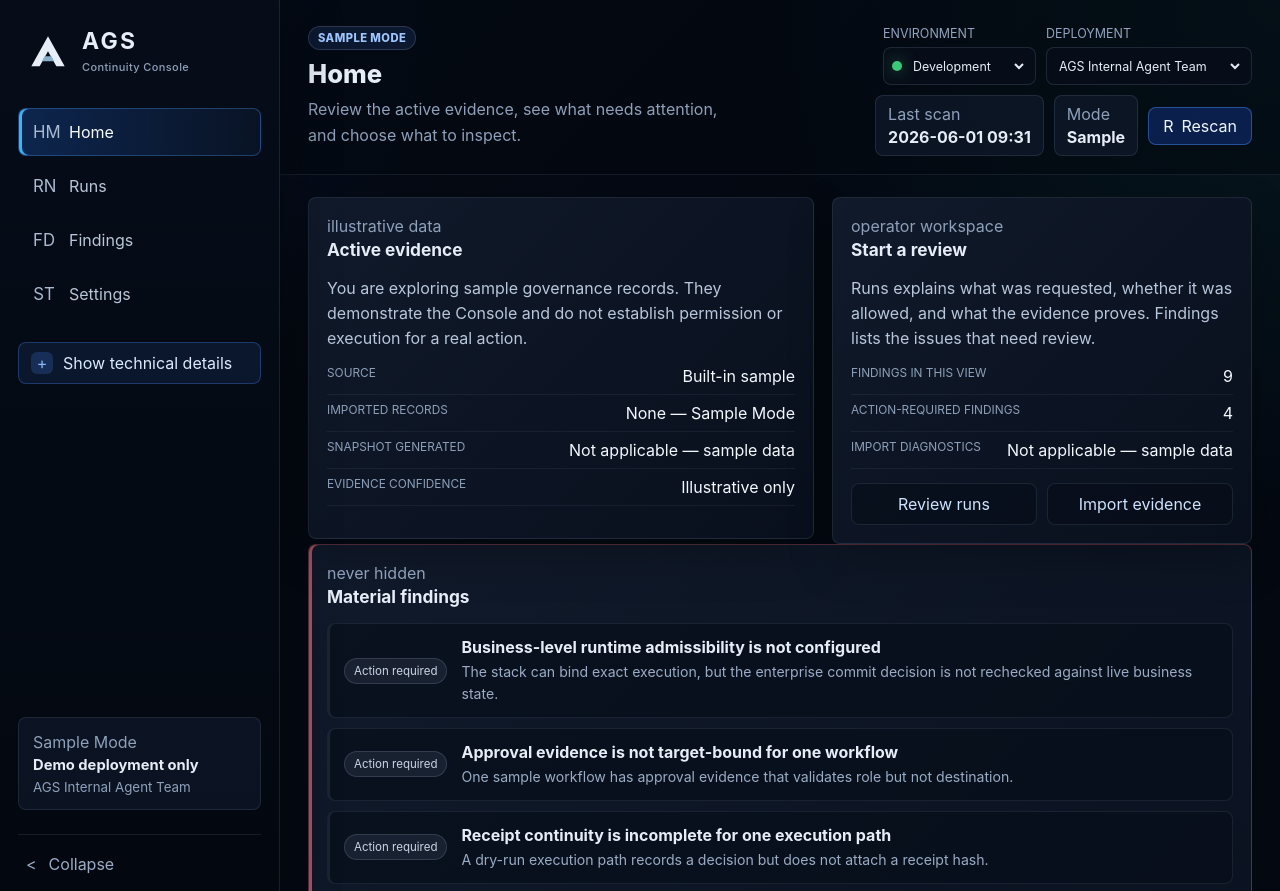
it: import operation ordering › operator order wins when import A completes after B
This screenshot has width=1280, height=891.
Click the button "Settings": [140, 294] box [18,270,261,318]
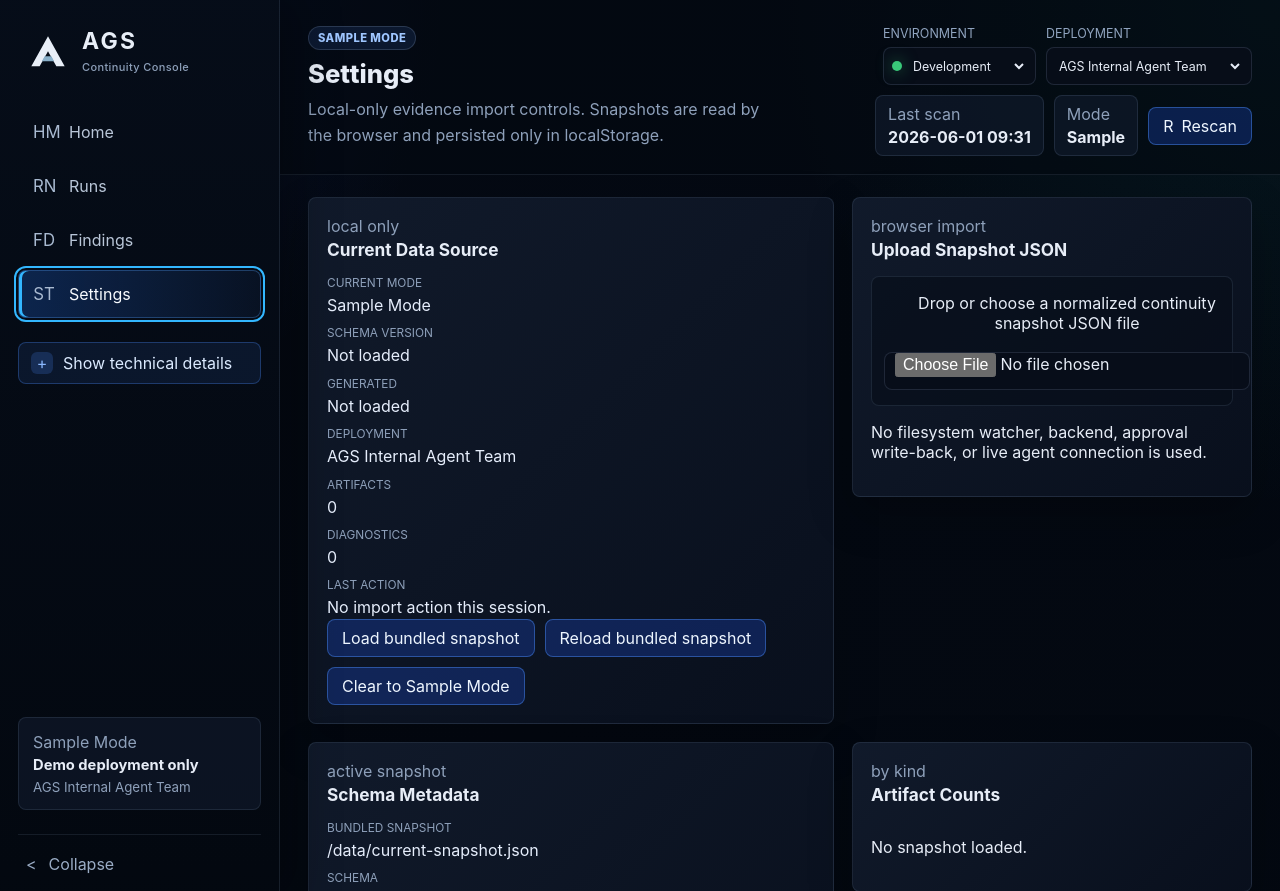
Click the button "Load bundled snapshot": [431, 638] box [327,619,534,657]
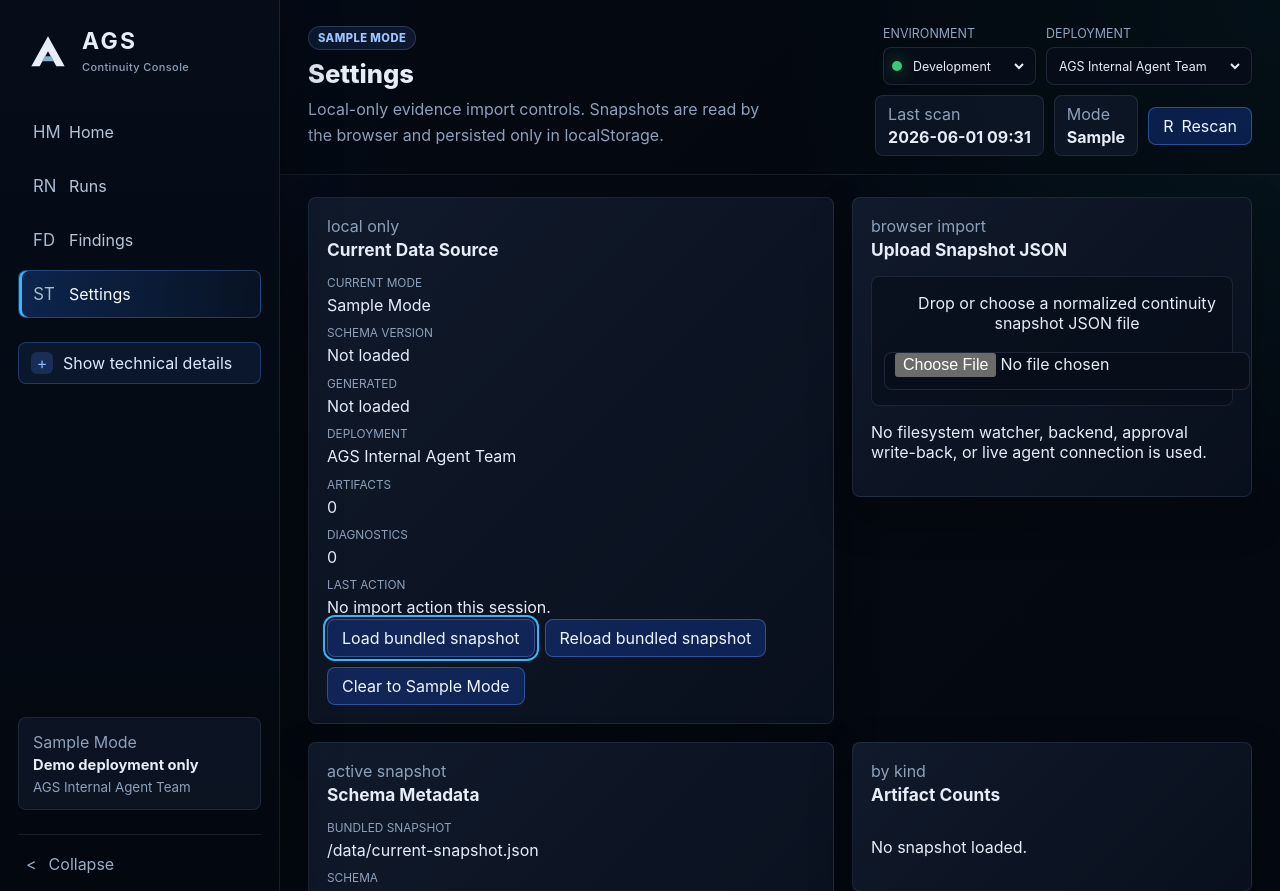
Click the button "Reload bundled snapshot": [655, 638] box [544,619,766,657]
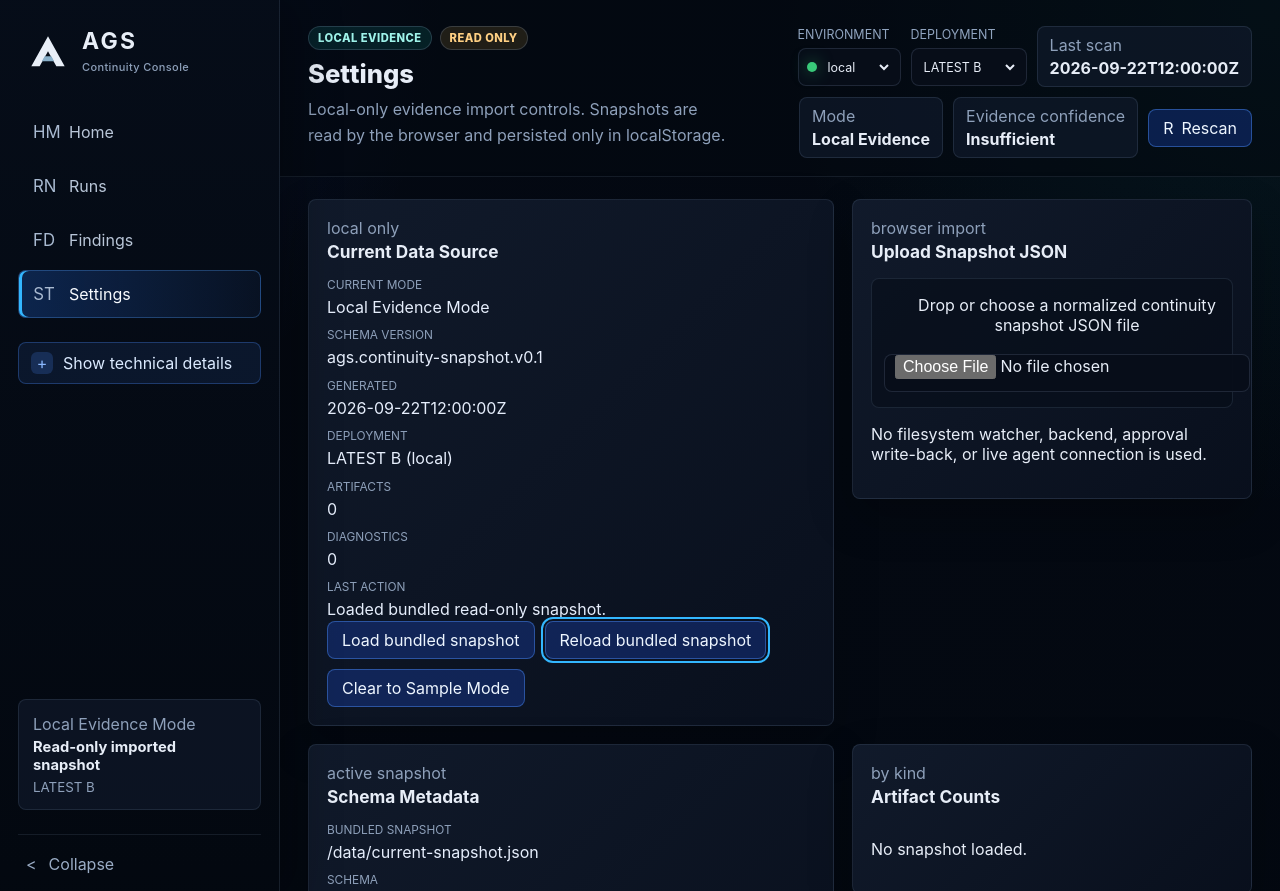
Expected: the element with class "sidebar-footer" shows "LATEST B", [33,779,95,795]
